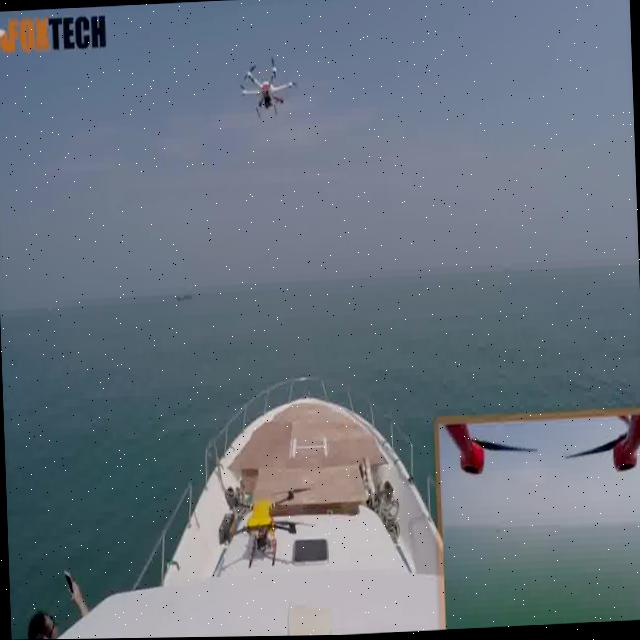drone: (239, 53, 295, 124)
